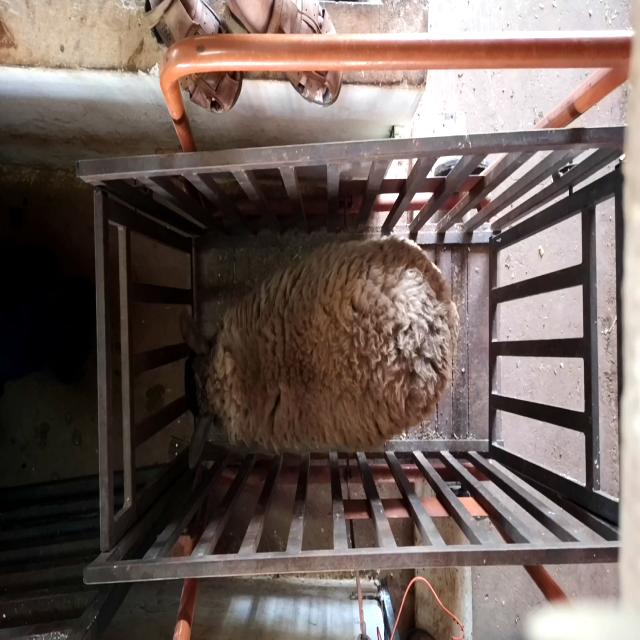sheep: (180, 237, 460, 469)
